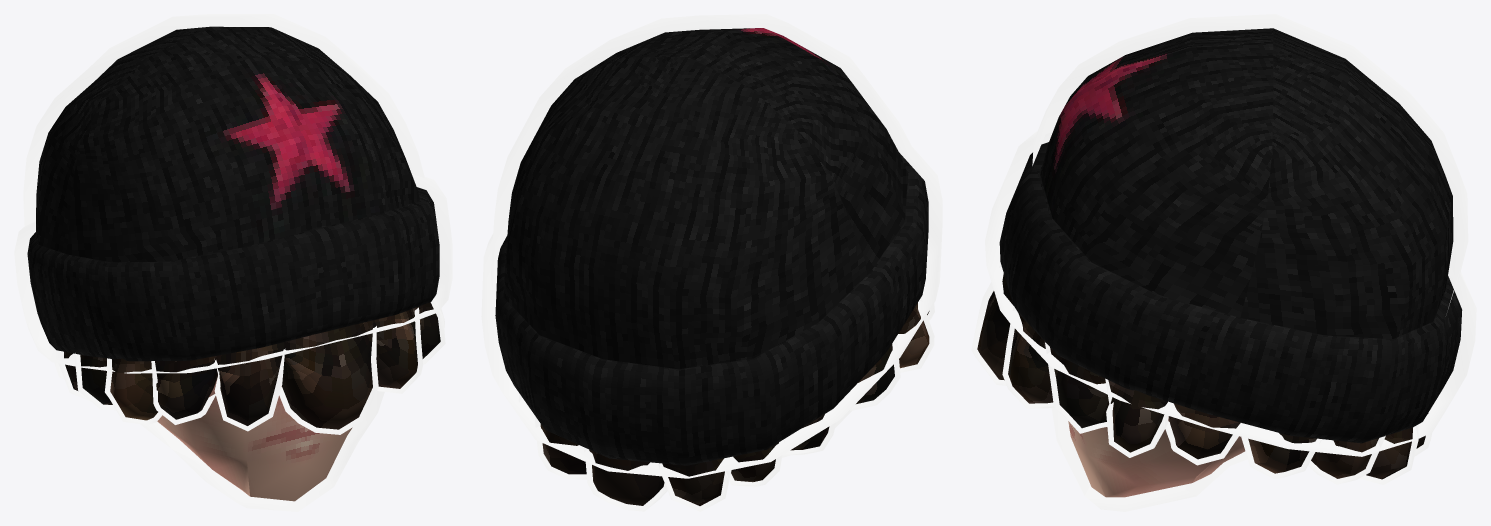
Rendered from 1765412606892-Lucas_web.glb.
3 views of the same model, side by side, from view 1: azimuth 30°, elevation 25°; view 2: azimuth 150°, elevation 25°; view 3: azimuth 270°, elevation 25° (orthographic). The views are drawn at different scales.
Parts seen in each view (by area): view 1: Cube.006, Plane.003, Cube.007; view 2: Cube.006, Plane.003; view 3: Cube.006, Plane.003, Cube.007.
Boxes of the visible parts, x1,y1,x2,y2 form: Cube.006: (14, 14, 452, 373); Plane.003: (49, 297, 445, 434); Cube.007: (140, 379, 384, 511); Cube.006: (481, 14, 942, 478); Plane.003: (518, 268, 934, 511); Cube.006: (985, 14, 1476, 456); Plane.003: (971, 264, 1436, 484); Cube.007: (1051, 407, 1247, 511).
Bounding box in the file's own units: 0.6316 × 0.7242 × 0.7058.
Materials: 2 (1 with a texture image).
